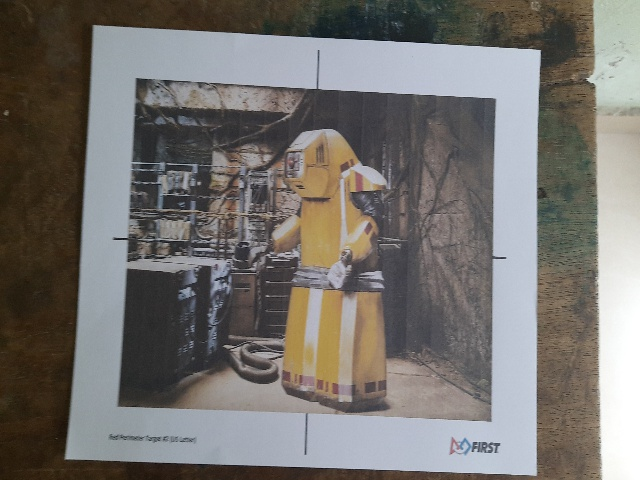rpt2: (107, 53, 522, 461)
